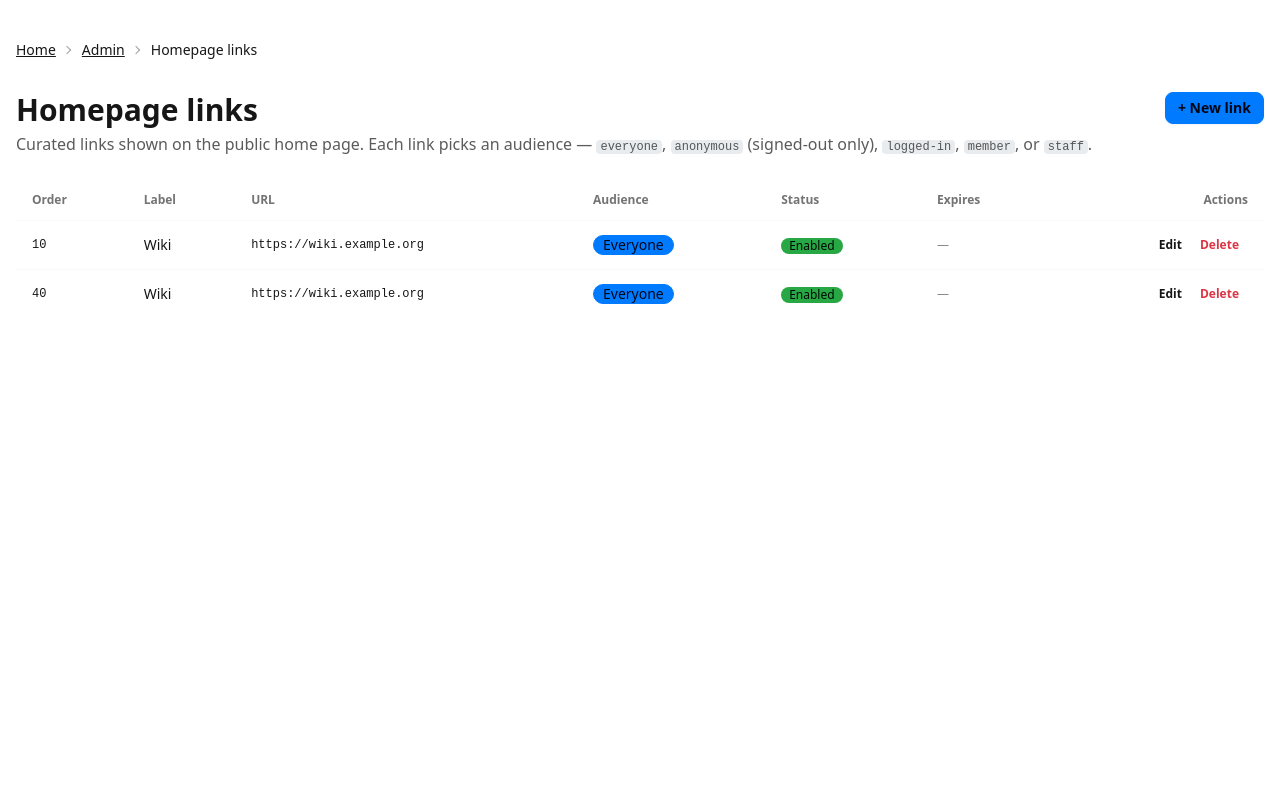
Test: creating a link › suggests the next sort order rather than colliding with an existing one
Click the button "+ New link".
click(1214, 108)  # box left=1165, top=92, right=1264, bottom=124
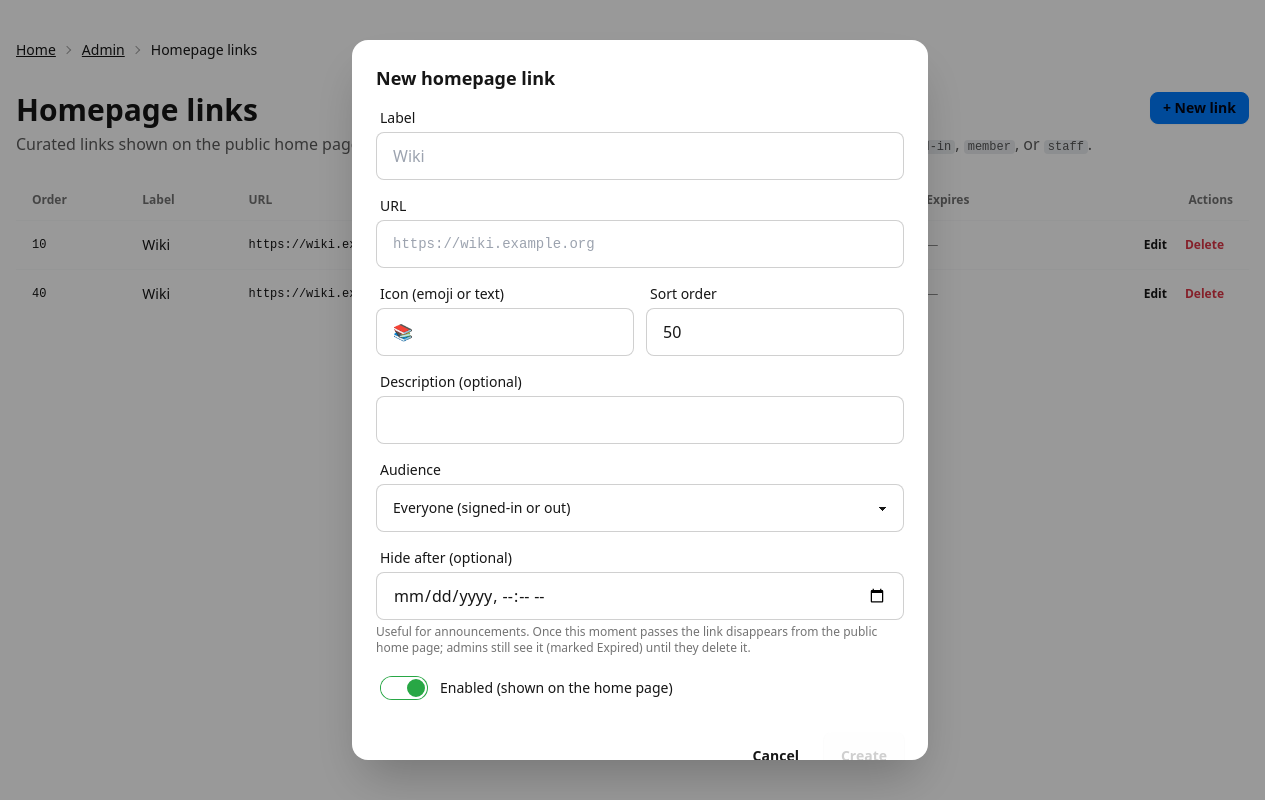
Expected: the number field holds "50", left=646, top=308, right=904, bottom=356
